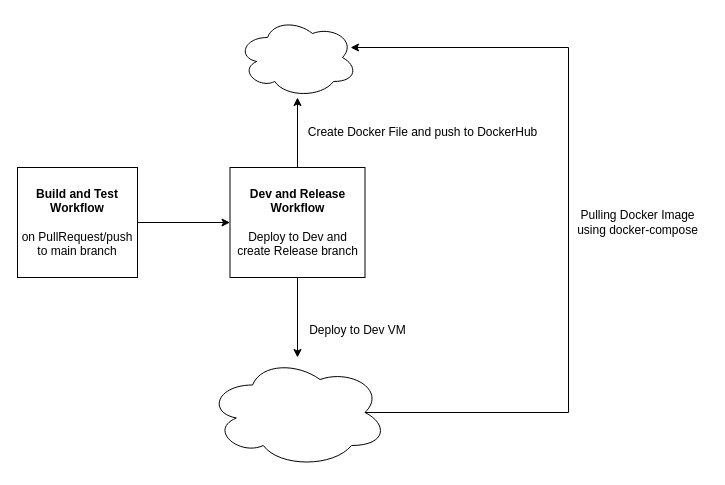
Some shapes in this 725 by 485 pixel diagram are drawn without their labels. The shapes that lost their labels are listed below. From the top down, each one's centre as x and y in pixels, then its label:
At (x=297, y=57): "DockerHub".
At (x=297, y=412): "Dev VM (docker-compose)".
